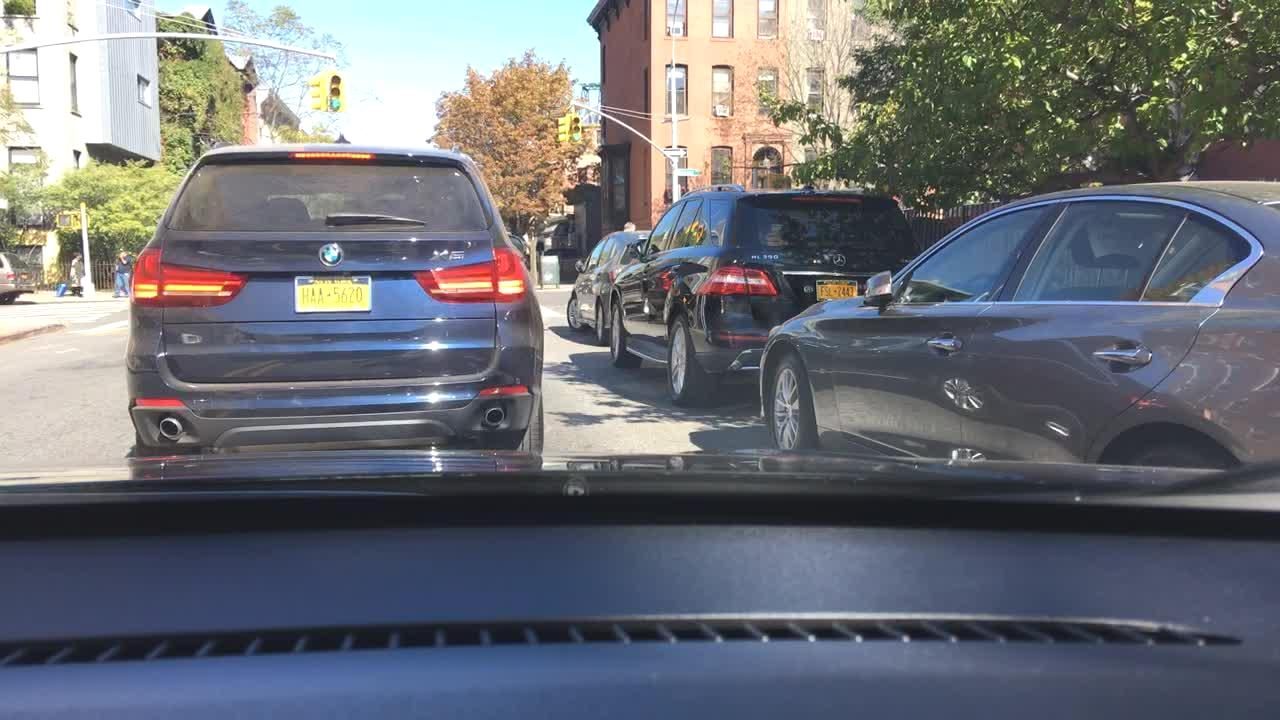Mercedes: (829, 252, 851, 270)
bmw: (317, 236, 347, 270)
